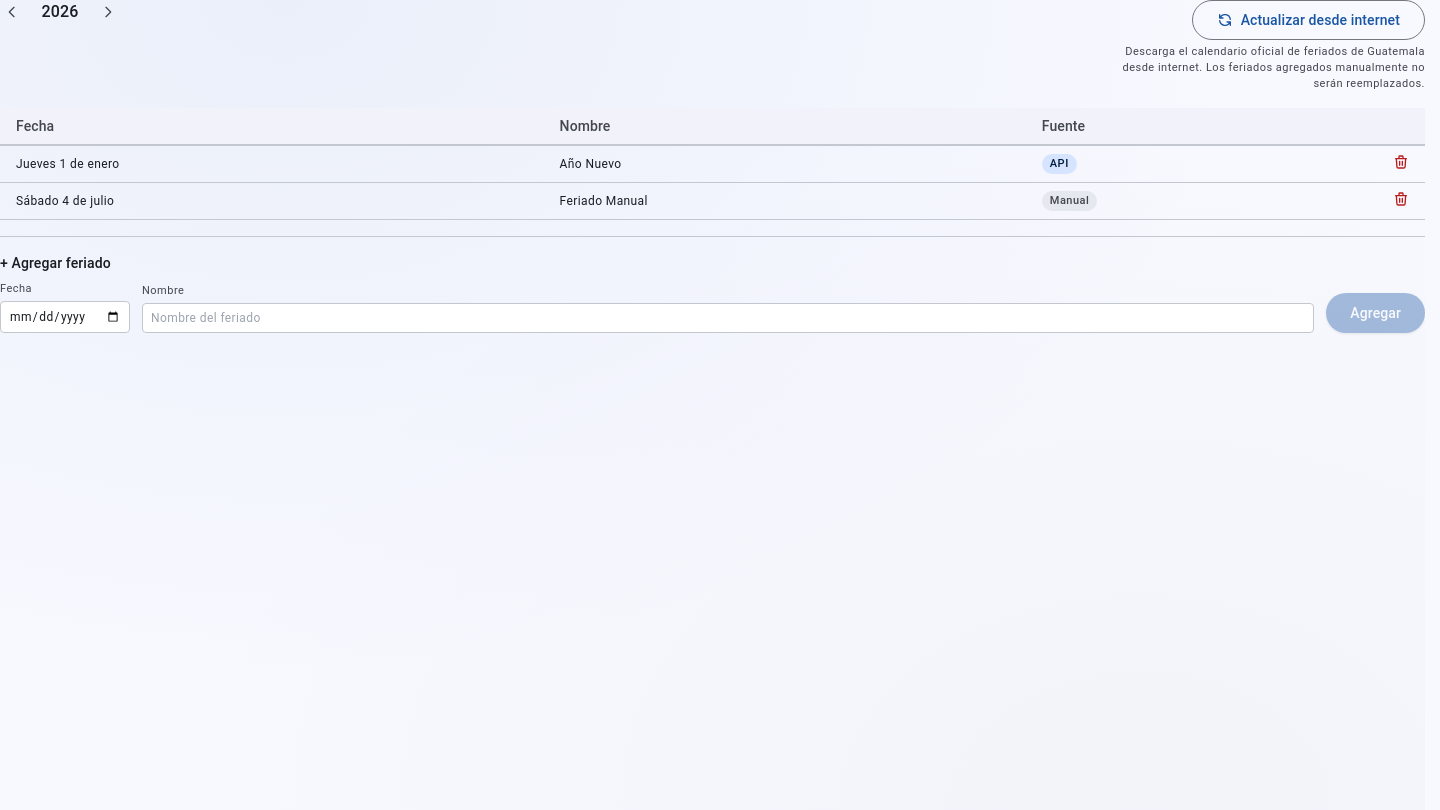
it: HolidaysTab delete › clicking Cancelar closes modal without deleting
Expected: the text "Año Nuevo" is shown, [544, 145, 1026, 182]
What coordinates should you click on to do the following:
click the button named "eliminar feriado" in the row of "Jueves 1 de enero"
I would click on:
 (1401, 162)
Its box is [1393, 154, 1409, 170].
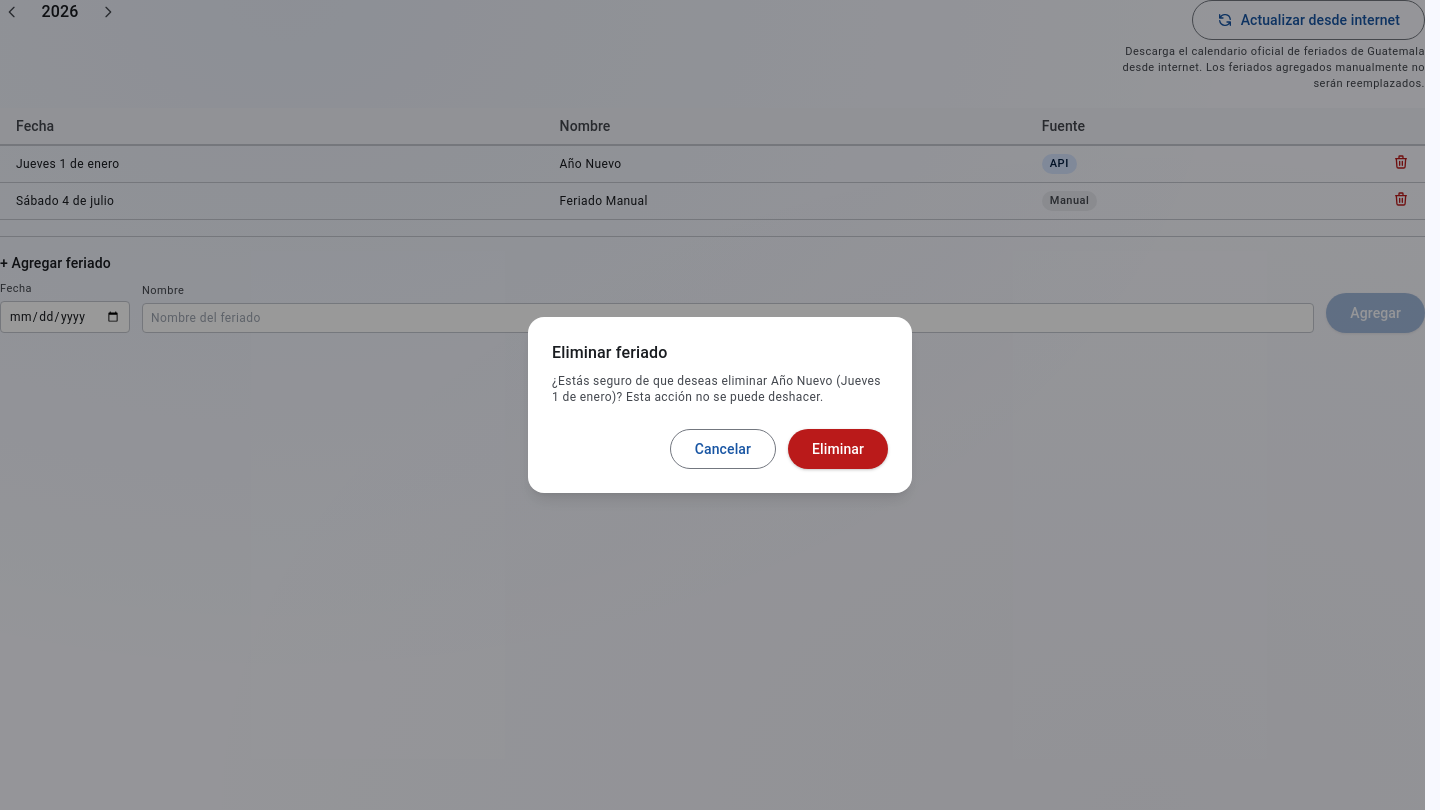
What coordinates should you click on to do the following:
click the button "Cancelar"
I would click on:
 (723, 449)
Its box is [670, 429, 776, 469].
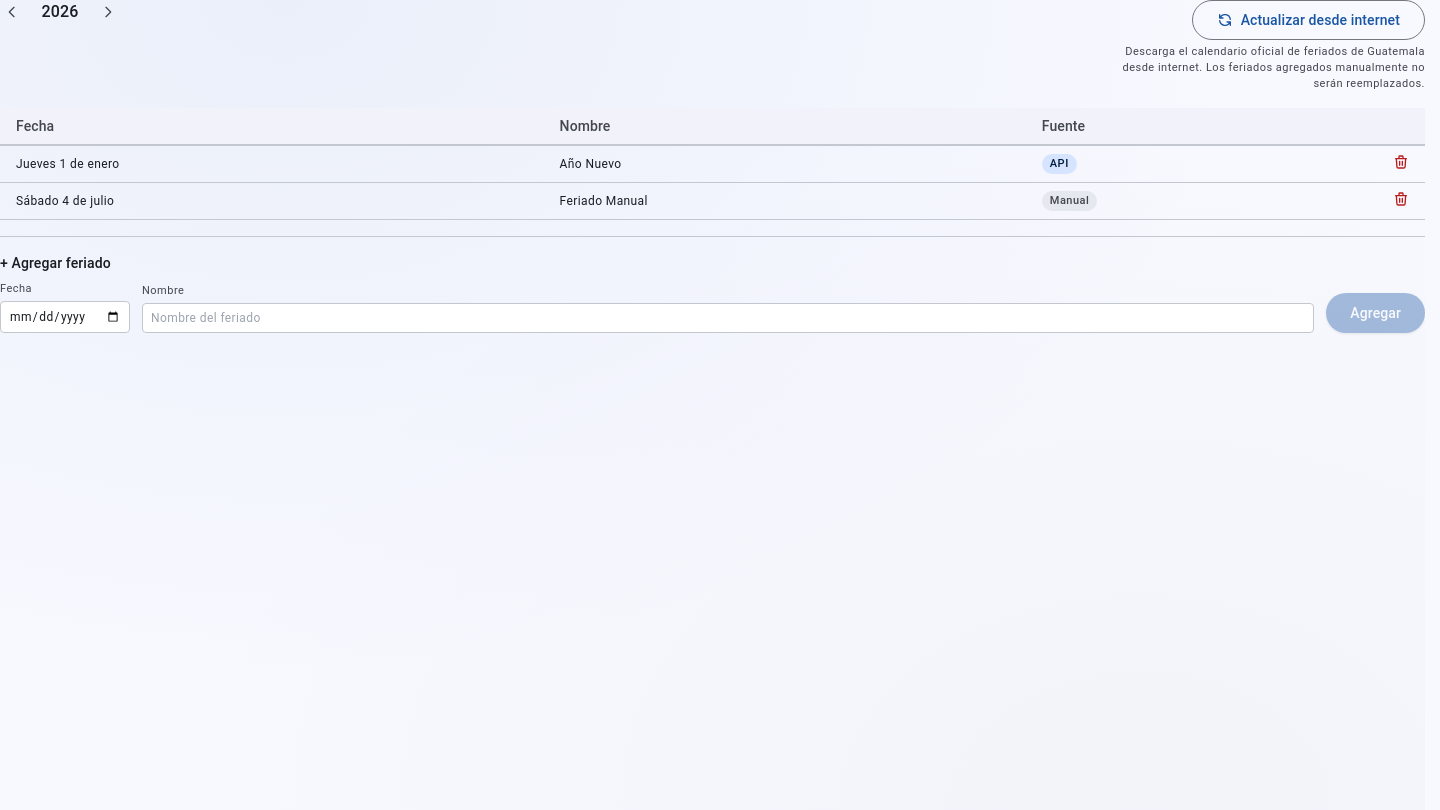
Now the text "Estás seguro" is gone
